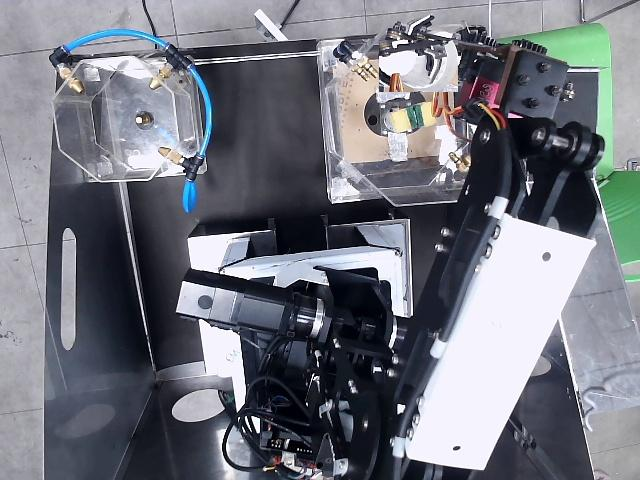cup: (379, 40, 458, 92)
